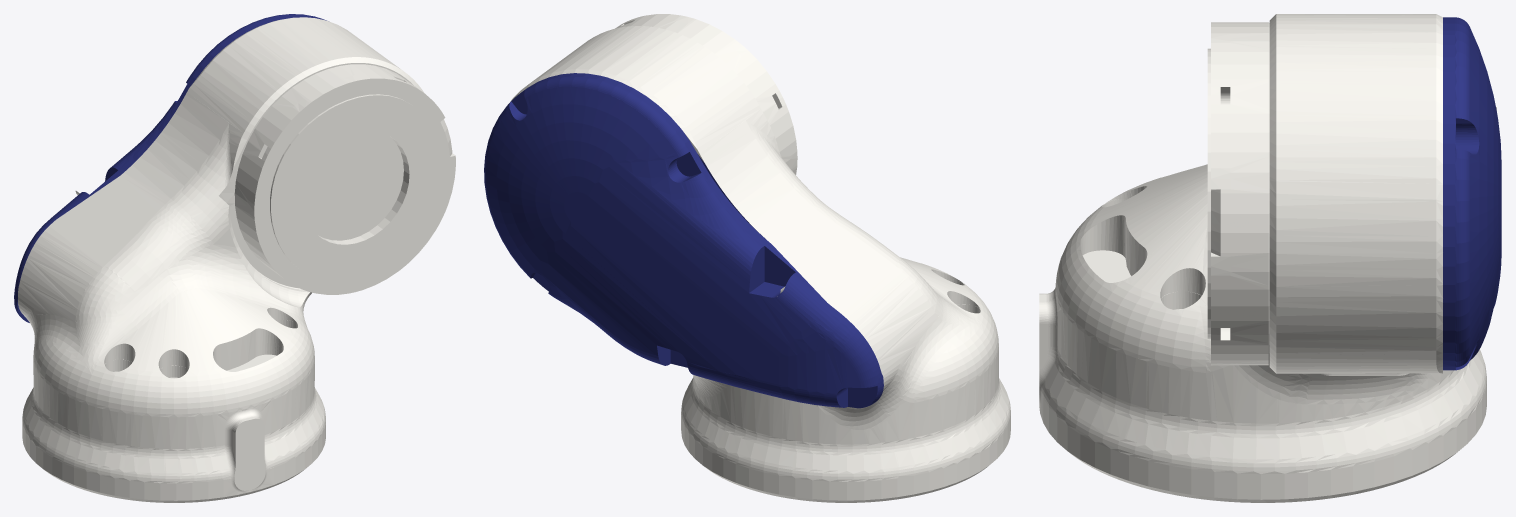
The picture shows the model from 3 angles, left to right: view 1: azimuth 30°, elevation 25°; view 2: azimuth 150°, elevation 25°; view 3: azimuth 270°, elevation 25°; orthographic projection. The views are drawn at different scales.
Visible parts, largest first — view 1: Link_E; view 2: Link_E; view 3: Link_E.
Boxes of the visible parts, x1,y1,x2,y2 form: Link_E: (14, 14, 455, 502); Link_E: (484, 14, 1010, 502); Link_E: (1039, 14, 1501, 502).
Bounding box in the file's own units: 0.2085 × 0.1415 × 0.168.
Materials: 1 (1 with a texture image).
